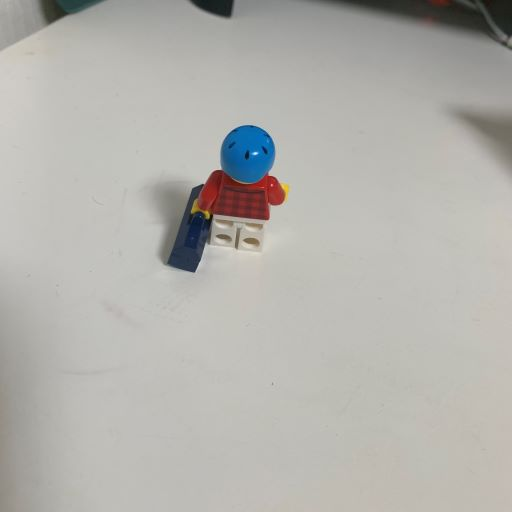human: (163, 115, 296, 283)
